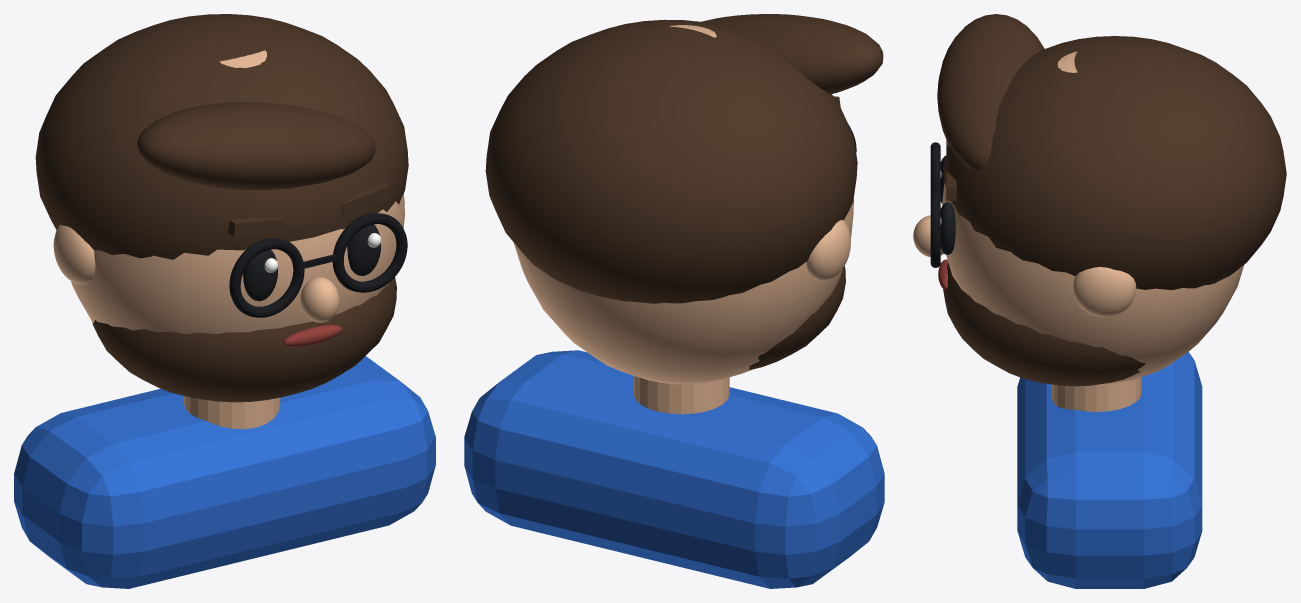
File: busto_barba.glb
3 renders of one model, left to right at view 1: azimuth 30°, elevation 25°; view 2: azimuth 150°, elevation 25°; view 3: azimuth 270°, elevation 25°, orthographic. The views are drawn at different scales.
Parts seen in each view (by area): view 1: Cube, Sphere.006, Sphere, Sphere.004, Sphere.007, ojos, Torus, Torus.001, Cylinder, Sphere.001, Sphere.003, Cube.001 (+2 smaller); view 2: Sphere.006, Cube, Sphere, Sphere.007, Cylinder, Sphere.004, Sphere.001; view 3: Sphere.006, Cube, Sphere, Sphere.007, Sphere.004, Sphere.002, Cylinder, ojos, Torus.001, Sphere.003, Torus.
Boxes of the visible parts, x1,y1,x2,y2 form: Cube: [14, 356, 435, 588]; Sphere.006: [35, 14, 408, 259]; Sphere: [71, 50, 404, 333]; Sphere.004: [92, 277, 396, 402]; Sphere.007: [137, 102, 375, 190]; ojos: [243, 224, 381, 301]; Torus: [229, 238, 304, 317]; Torus.001: [332, 213, 407, 292]; Cylinder: [184, 396, 280, 429]; Sphere.001: [53, 224, 95, 284]; Sphere.003: [300, 277, 339, 322]; Cube.001: [228, 217, 283, 236]; Sphere.006: [485, 19, 857, 303]; Cube: [464, 350, 884, 588]; Sphere: [513, 25, 853, 384]; Sphere.007: [701, 14, 883, 94]; Cylinder: [633, 376, 729, 414]; Sphere.004: [749, 266, 845, 369]; Sphere.001: [806, 220, 850, 281]; Sphere.006: [943, 36, 1286, 290]; Cube: [1017, 352, 1202, 588]; Sphere: [942, 51, 1243, 384]; Sphere.007: [937, 14, 1044, 170]; Sphere.004: [943, 262, 1145, 386]; Sphere.002: [1073, 267, 1136, 317]; Cylinder: [1051, 377, 1141, 411]; ojos: [940, 155, 955, 254]; Torus.001: [930, 189, 940, 267]; Sphere.003: [913, 215, 943, 257]; Torus: [930, 142, 940, 191].
Bounding box in the file's own units: 1.5 × 1.95 × 1.41.
